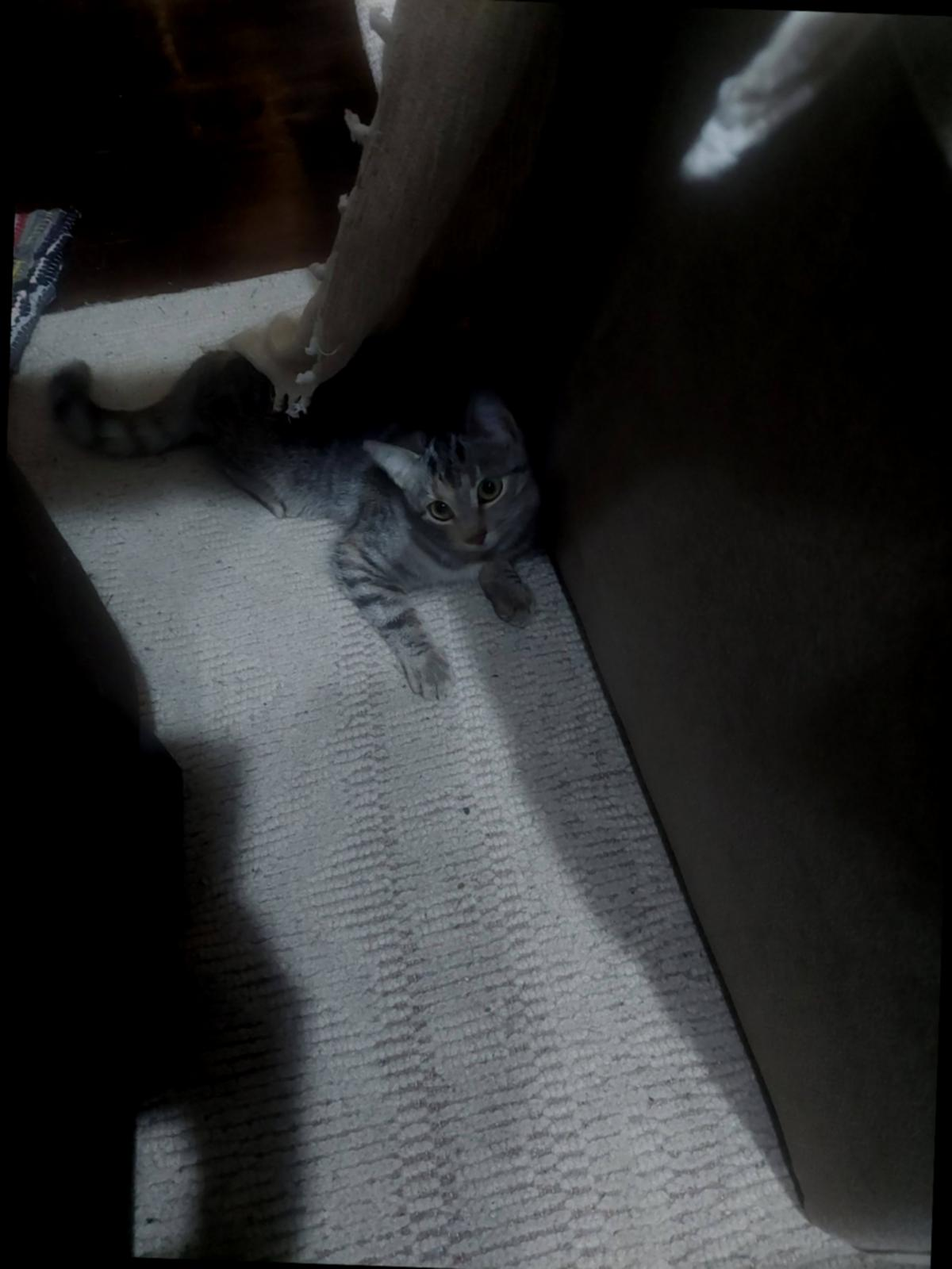macka: (35, 341, 554, 698)
